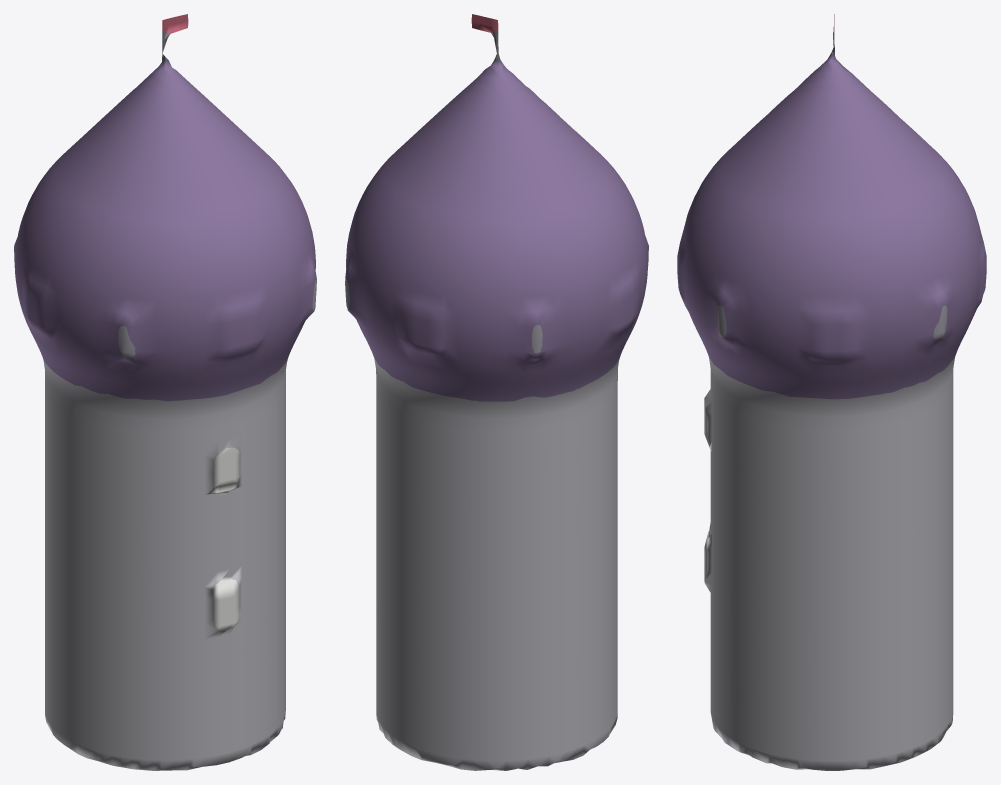
The model's file is tower.glb.
3 views of the same model, side by side, from view 1: azimuth 30°, elevation 25°; view 2: azimuth 150°, elevation 25°; view 3: azimuth 270°, elevation 25° (orthographic).
Visible parts, largest first — view 1: tower; view 2: tower; view 3: tower.
Boxes of the visible parts, x1,y1,x2,y2 form: tower: (14,14,316,770); tower: (345,14,648,770); tower: (677,14,986,770).
Size of the model in its own units: 102 by 258 by 102.
